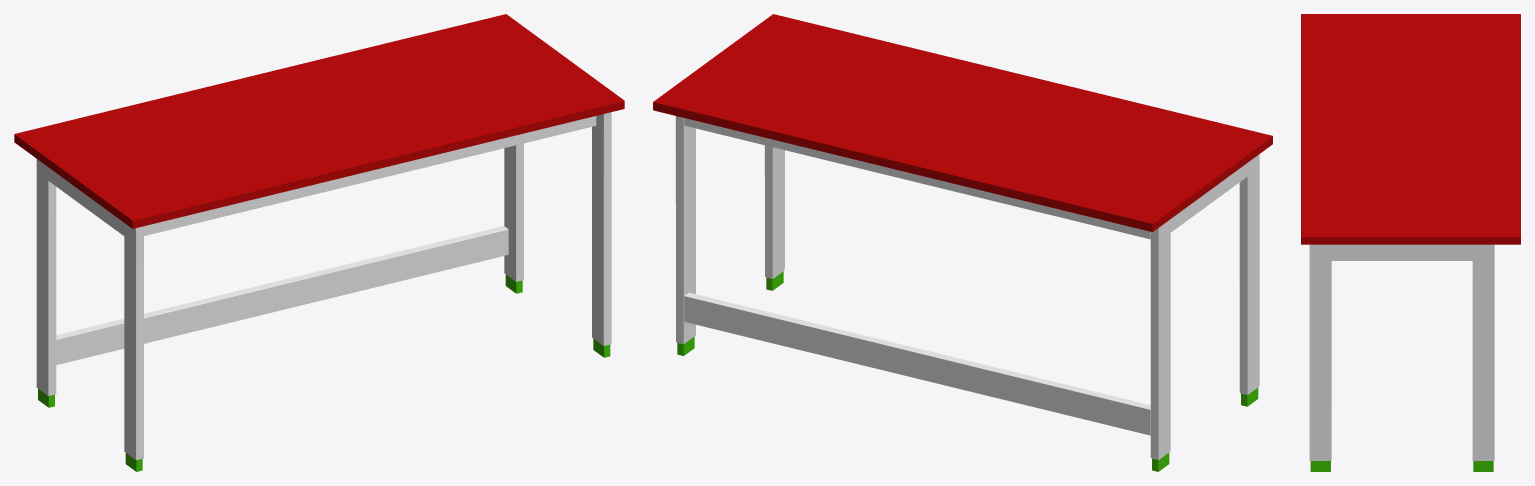
The model's file is Desk01.fbx.
The picture shows the model from 3 angles, left to right: view 1: azimuth 30°, elevation 25°; view 2: azimuth 150°, elevation 25°; view 3: azimuth 270°, elevation 25°; orthographic projection. The views are drawn at different scales.
Parts seen in each view (by area): view 1: Desk01; view 2: Desk01; view 3: Desk01.
Part boxes in pixels (<box>): Desk01: <box>14,14,624,471</box>; Desk01: <box>653,14,1272,471</box>; Desk01: <box>1301,14,1520,471</box>.
Size of the model in its own units: 150 by 62.5 by 75.
